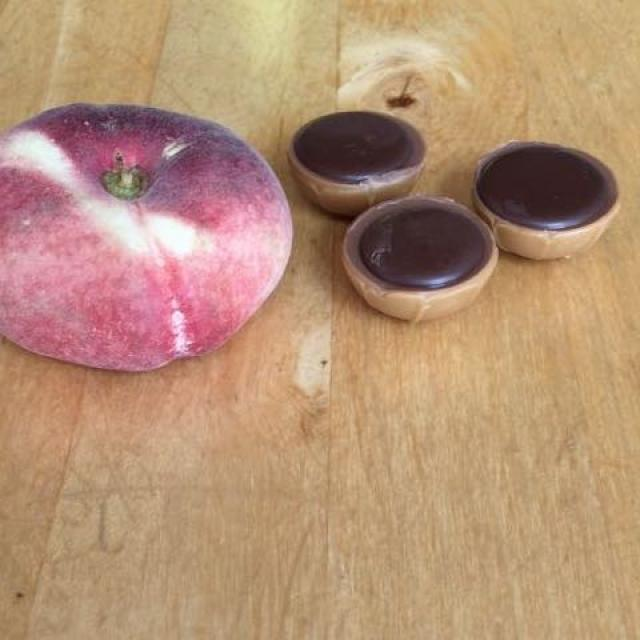peach: (7, 105, 291, 355)
